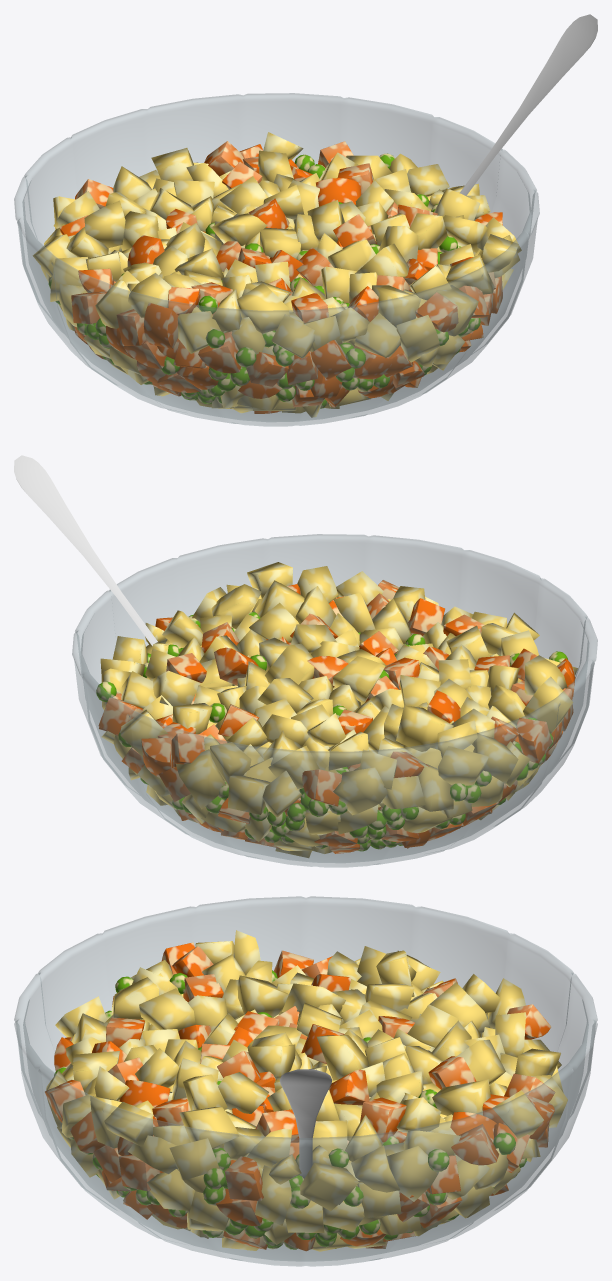
File: Salad.glb
3 renders of one model, top to bottom at view 1: azimuth 30°, elevation 25°; view 2: azimuth 150°, elevation 25°; view 3: azimuth 270°, elevation 25°, orthographic. The views are drawn at different scales.
Visible parts, largest first — view 1: Potatoe, SaladBowl, SaladSpoon; view 2: Potatoe, SaladBowl, SaladSpoon; view 3: Potatoe, SaladBowl, SaladSpoon.
Part boxes in pixels (box(x1,y1,x2,y2)): Potatoe: box(33, 132, 521, 417); SaladBowl: box(14, 93, 539, 426); SaladSpoon: box(459, 14, 597, 195); Potatoe: box(96, 562, 577, 857); SaladBowl: box(72, 534, 597, 867); SaladSpoon: box(14, 455, 157, 646); Potatoe: box(45, 930, 567, 1251); SaladBowl: box(14, 896, 597, 1266); SaladSpoon: box(279, 1069, 332, 1178).
Bounding box in the file's own units: 4.86 × 2.37 × 4.06.
3 materials, 1 textured.
